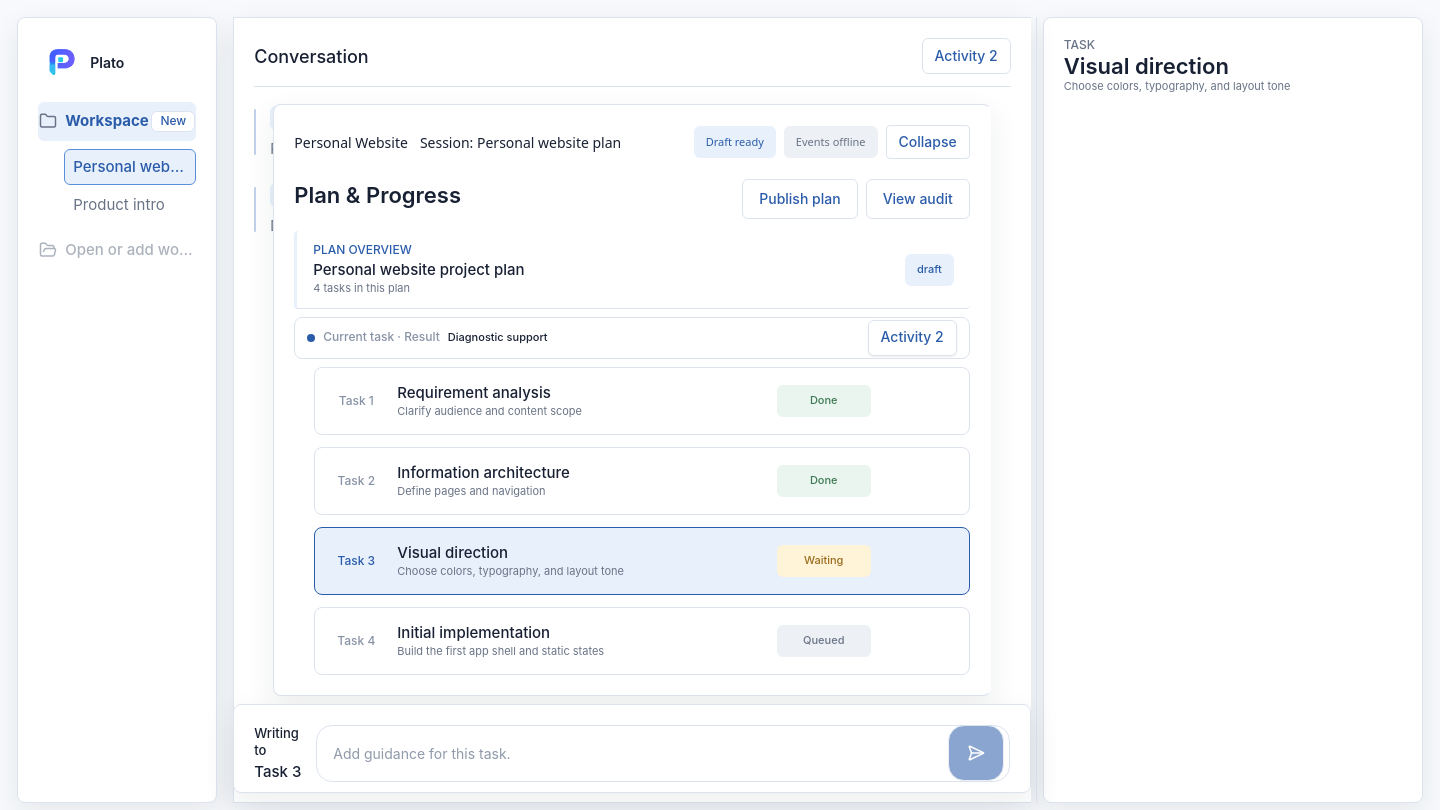
Scenario: MainPageWorkbench layout › exports a redacted diagnostic bundle from diagnostic activity refs
Click the button with aria-label "Open task updates" at [912, 338], box [868,320,957,356]
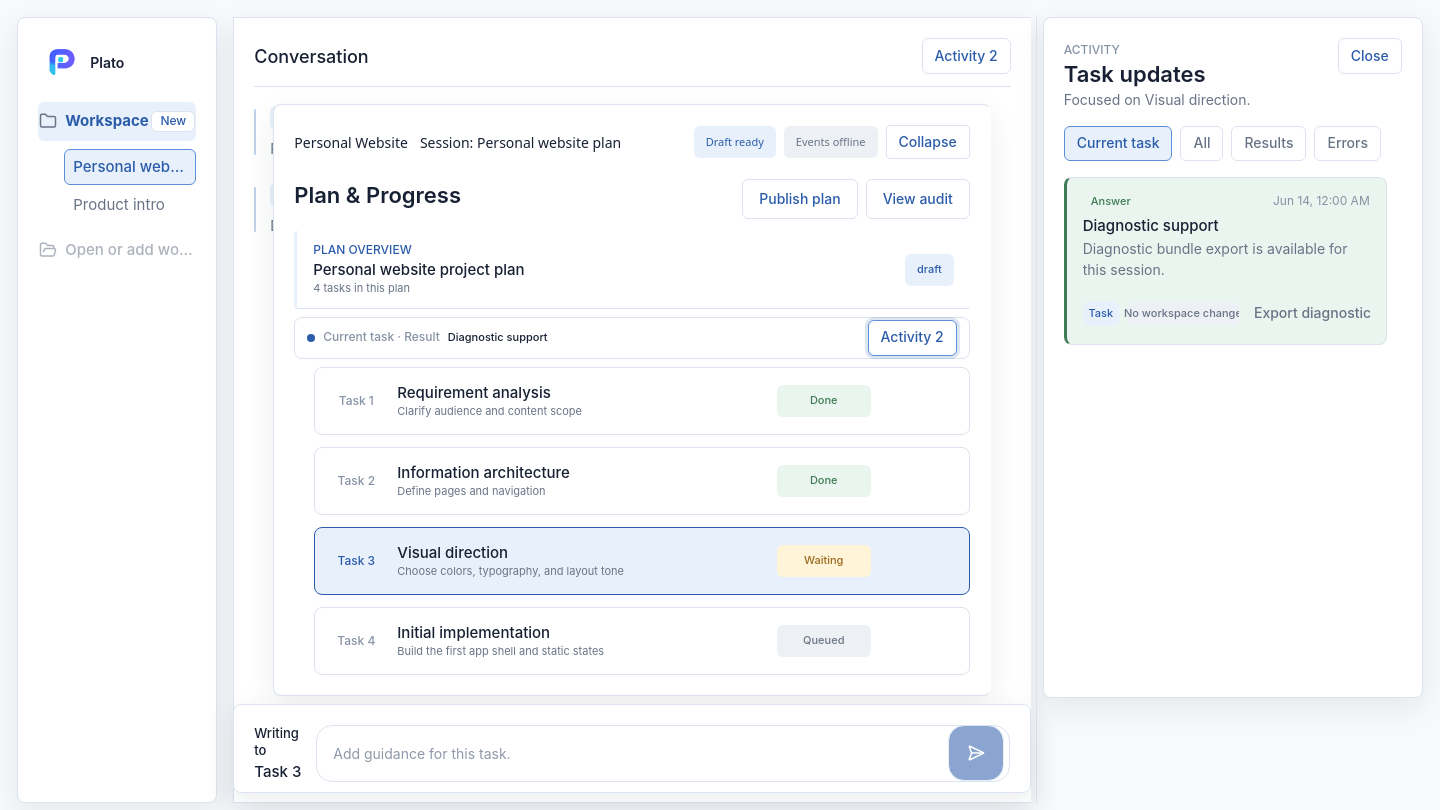
Click the button "Export diagnostics" at [1316, 314], box [1241,296,1392,332]
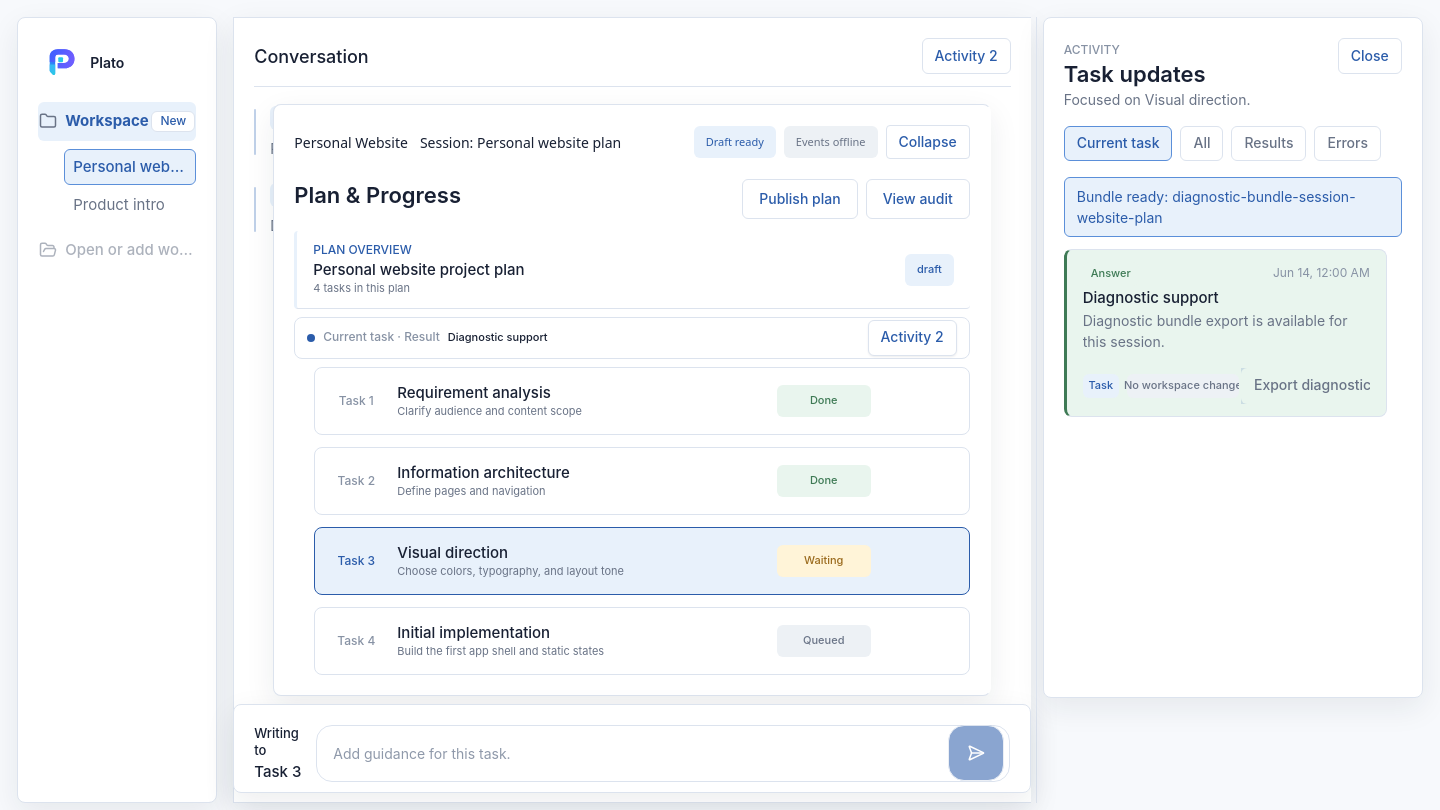
Check: the message reads "Bundle ready: diagnostic-bundle-session-website-plan", box [1077,188,1356,226]
